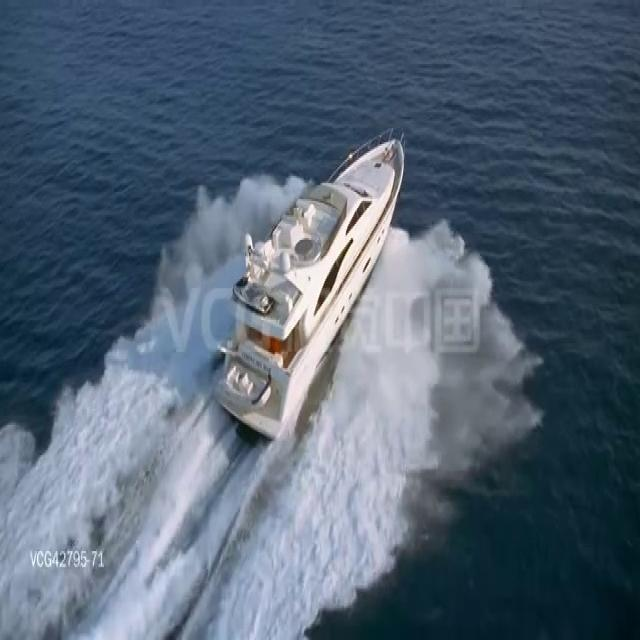houseboat: (207, 116, 409, 436)
